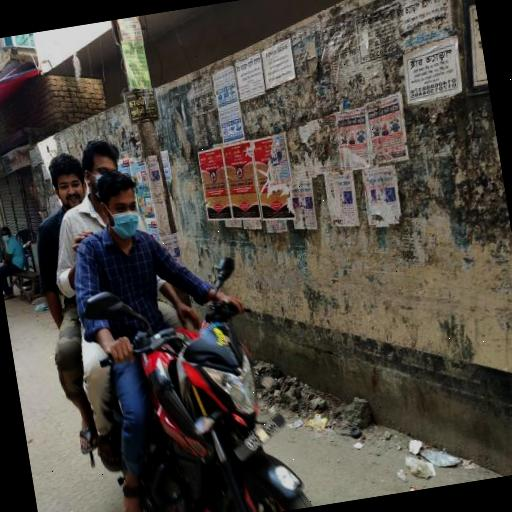no helmet: (80, 158, 161, 282)
triple riding: (12, 99, 333, 512)
